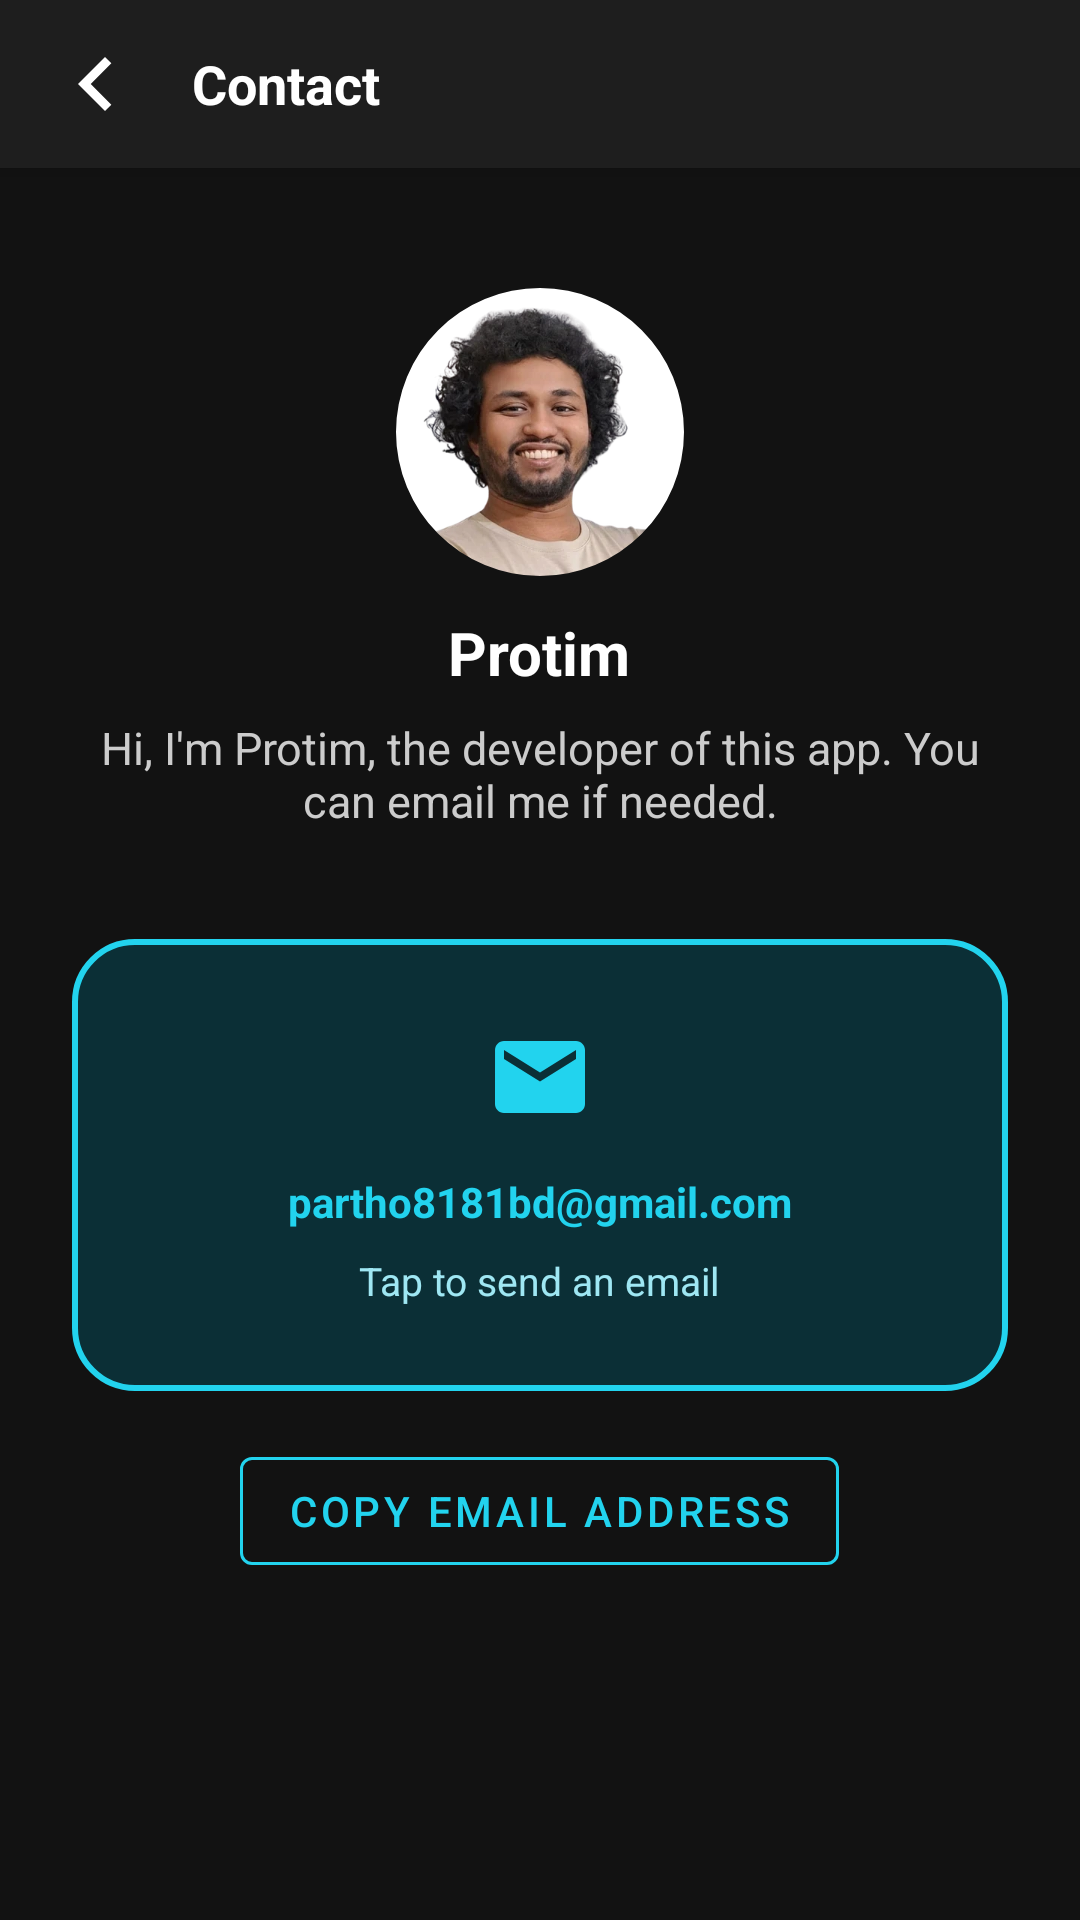

Screen size 1080w x 1920h. Icon name, then its center in pixels as (x,y):
Back: (95,84)
